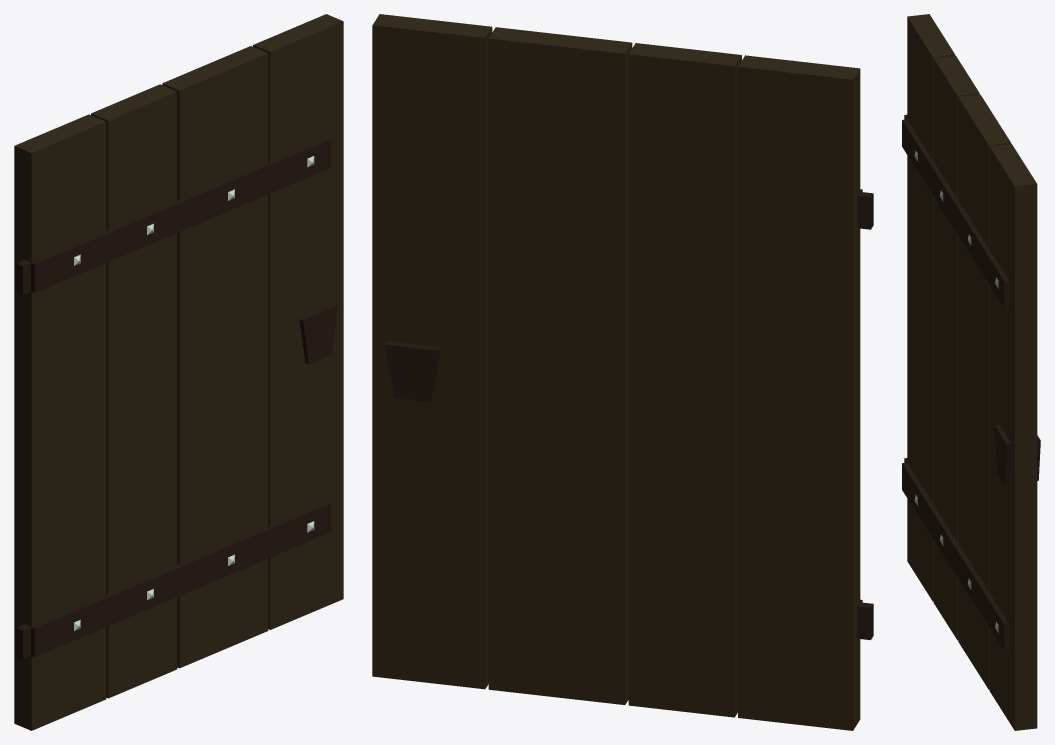
3 renders of one model, left to right at view 1: azimuth 30°, elevation 25°; view 2: azimuth 150°, elevation 25°; view 3: azimuth 270°, elevation 25°, orthographic. The views are drawn at different scales.
Visible parts, largest first — view 1: Plane106; view 2: Plane106; view 3: Plane106.
Part boxes in pixels (box(x1,y1,x2,y2)): Plane106: box(14, 14, 343, 730); Plane106: box(372, 14, 873, 730); Plane106: box(902, 14, 1040, 730).
Bounding box in the file's own units: 1.19 × 1.73 × 0.3983.
